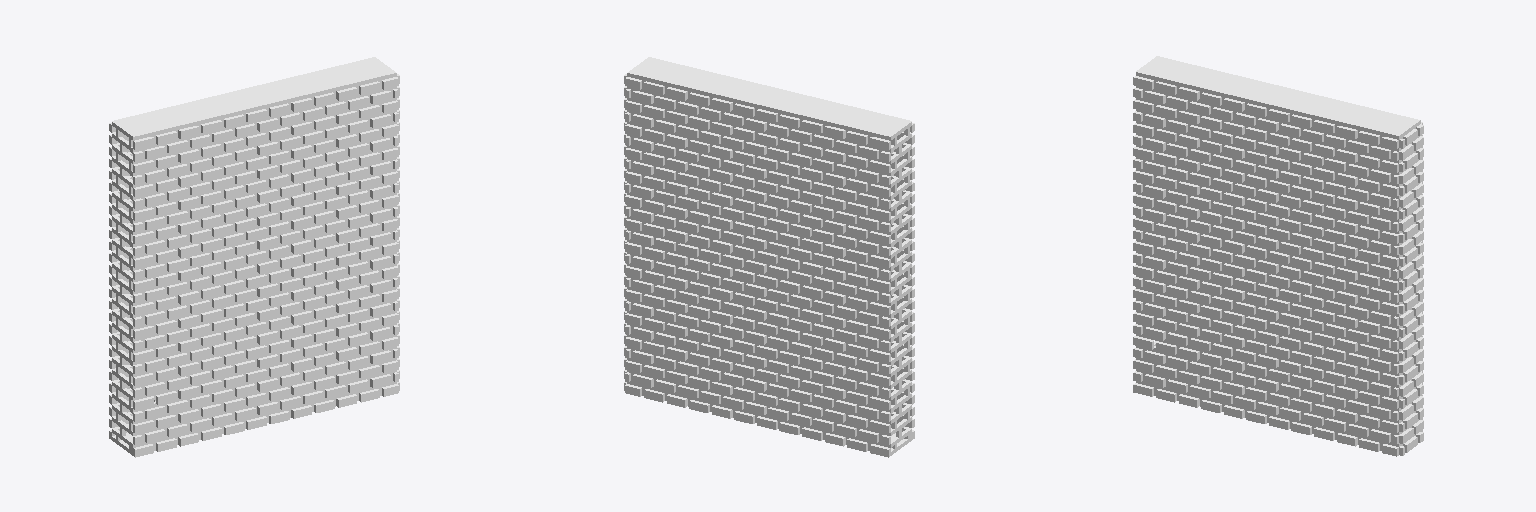
The model's file is one_side_wall_h81_rc_1.0.obj.
3 views of the same model, side by side, from view 1: azimuth 30°, elevation 25°; view 2: azimuth 150°, elevation 25°; view 3: azimuth 330°, elevation 25° (orthographic).
Visible parts, largest first — view 1: object 1; view 2: object 1; view 3: object 1.
Boxes of the visible parts, x1=… form: object 1: x1=109, y1=57, x2=399, y2=457; object 1: x1=624, y1=57, x2=914, y2=457; object 1: x1=1133, y1=56, x2=1423, y2=456.
Bounding box in the file's own units: 7.1 × 8.1 × 1.2.